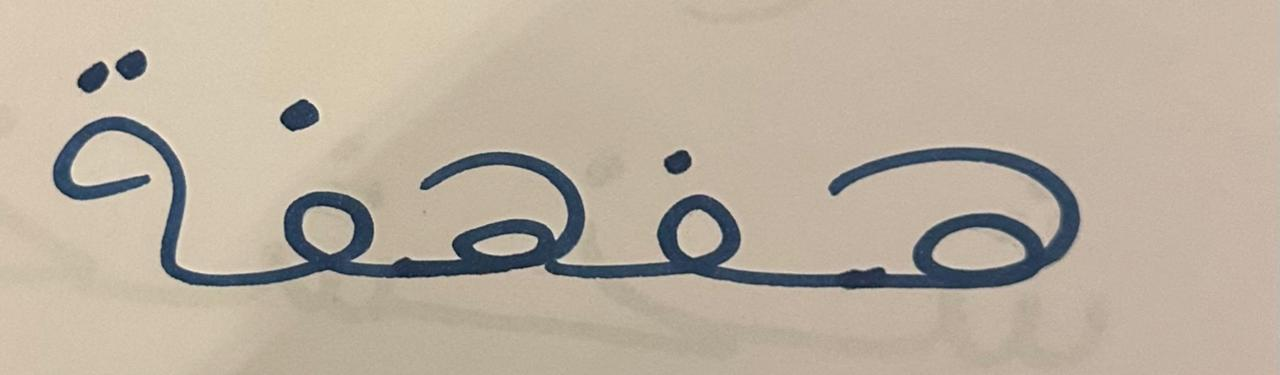feh: (603, 27, 773, 345), (221, 25, 380, 329)
jeem: (778, 19, 1124, 352), (384, 14, 599, 333)
thal: (19, 9, 216, 325)
